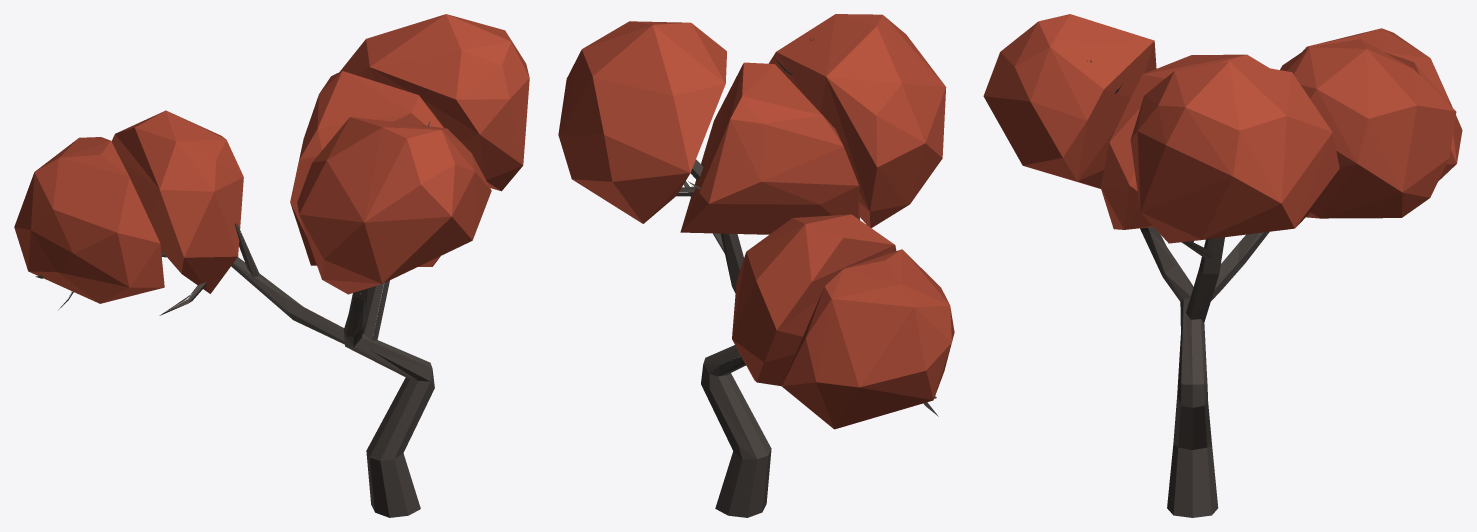
Rendered from estilizada-MapleTree_2.glb.
3 views of the same model, side by side, from view 1: azimuth 30°, elevation 25°; view 2: azimuth 150°, elevation 25°; view 3: azimuth 270°, elevation 25° (orthographic). The views are drawn at different scales.
Visible parts, largest first — view 1: MapleTree_2.001; view 2: MapleTree_2.001; view 3: MapleTree_2.001.
Part boxes in pixels (x1,y1,x2,y2): MapleTree_2.001: [14, 14, 529, 517]; MapleTree_2.001: [558, 14, 954, 517]; MapleTree_2.001: [983, 14, 1462, 517].
Bounding box in the file's own units: 6.49 × 6.62 × 5.97.
